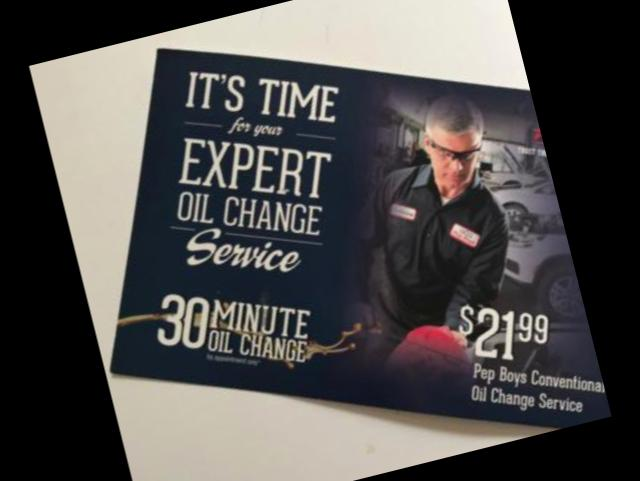cardboard paper: (112, 46, 612, 426)
